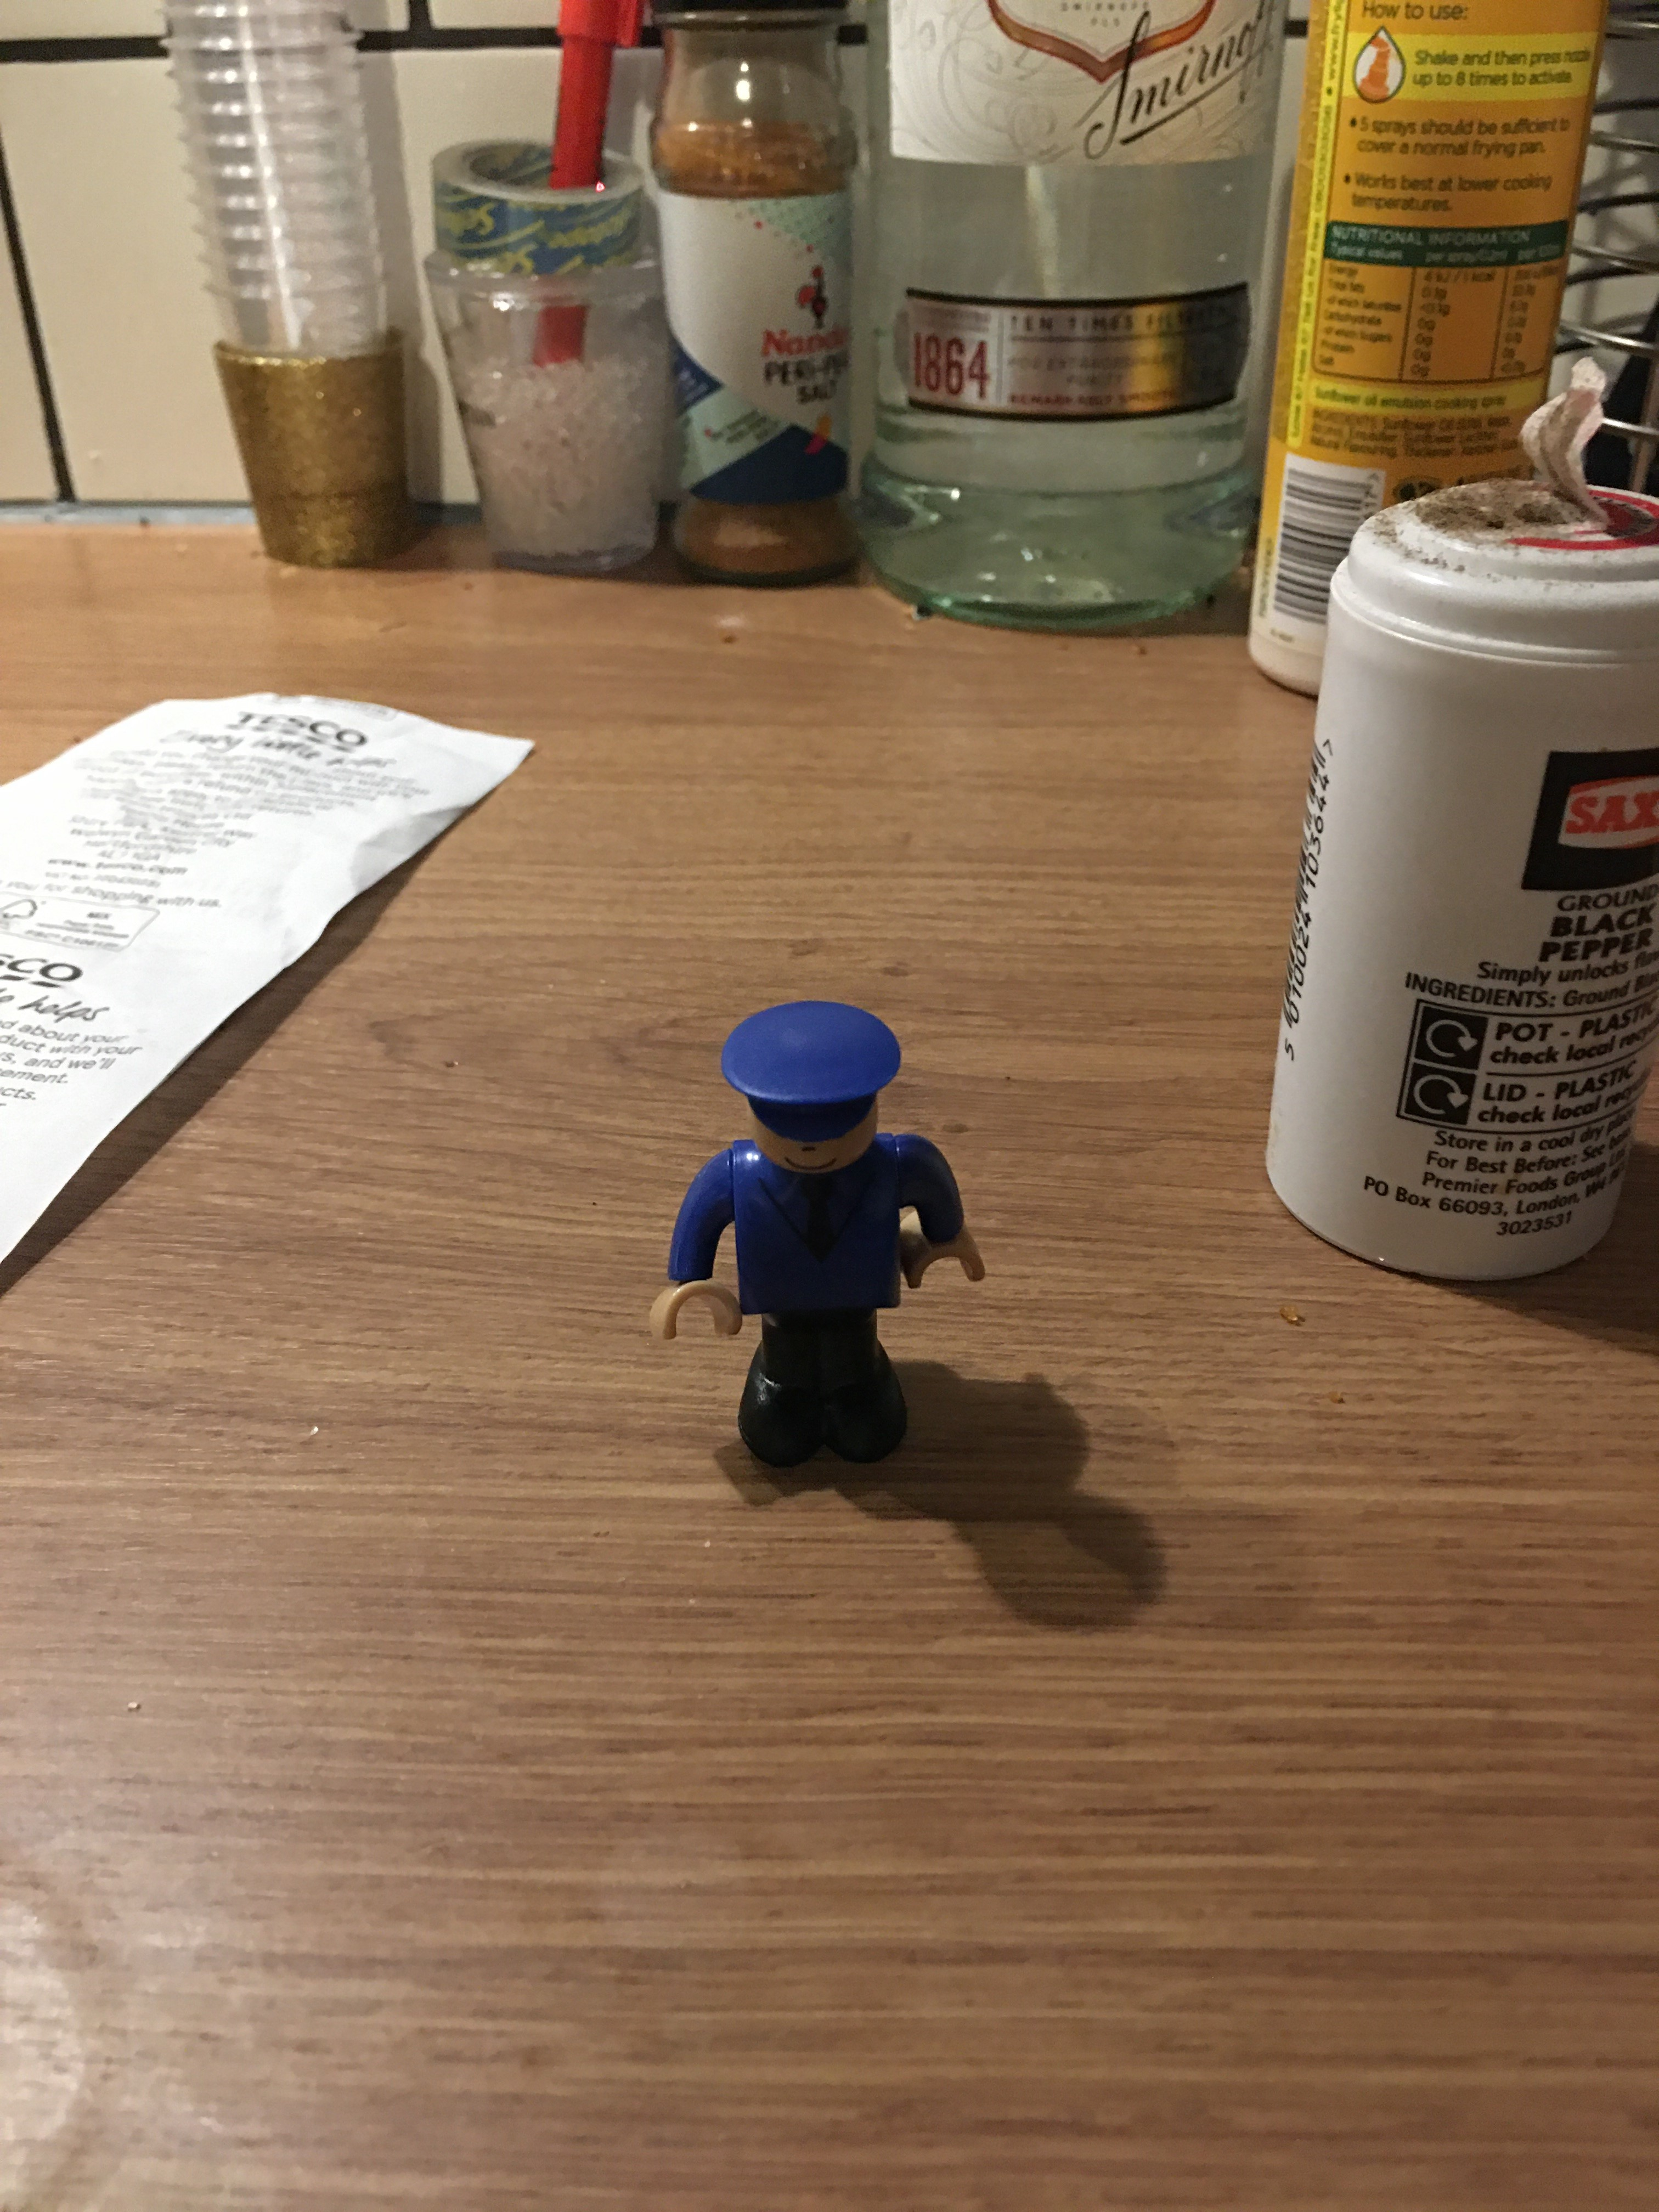person: (624, 997, 998, 1486)
